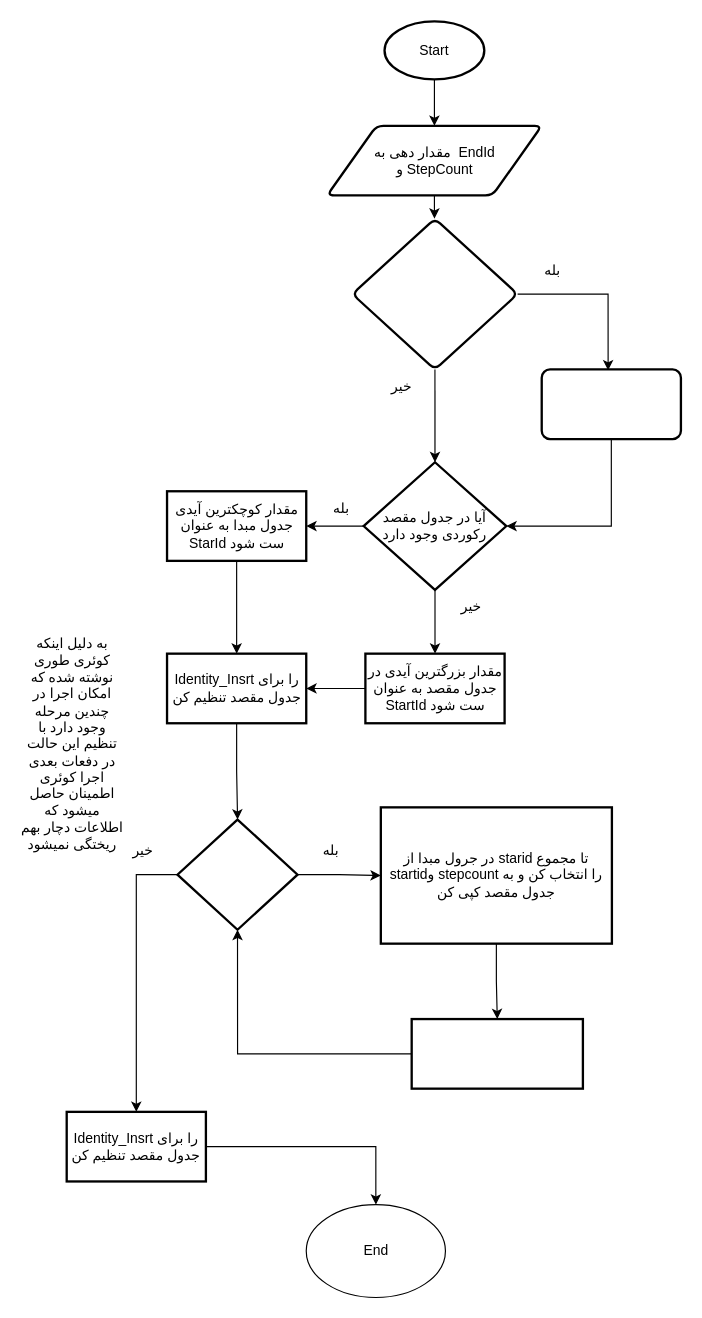
Image size: 702x1318. Some labels were removed from this diagram. Here are the shapes that lost their labels. From the top down, the centre of each, then its label:
At point 434,293: "آیا endid=0 هست".
At point 611,404: "بزرگترین آیدی جدول مبدا را به عنوان endid مقدار دهی کن".
At point 237,874: "آیا Startid<endid هست".
At point 496,1053: "srartid=startid+stepcount".
